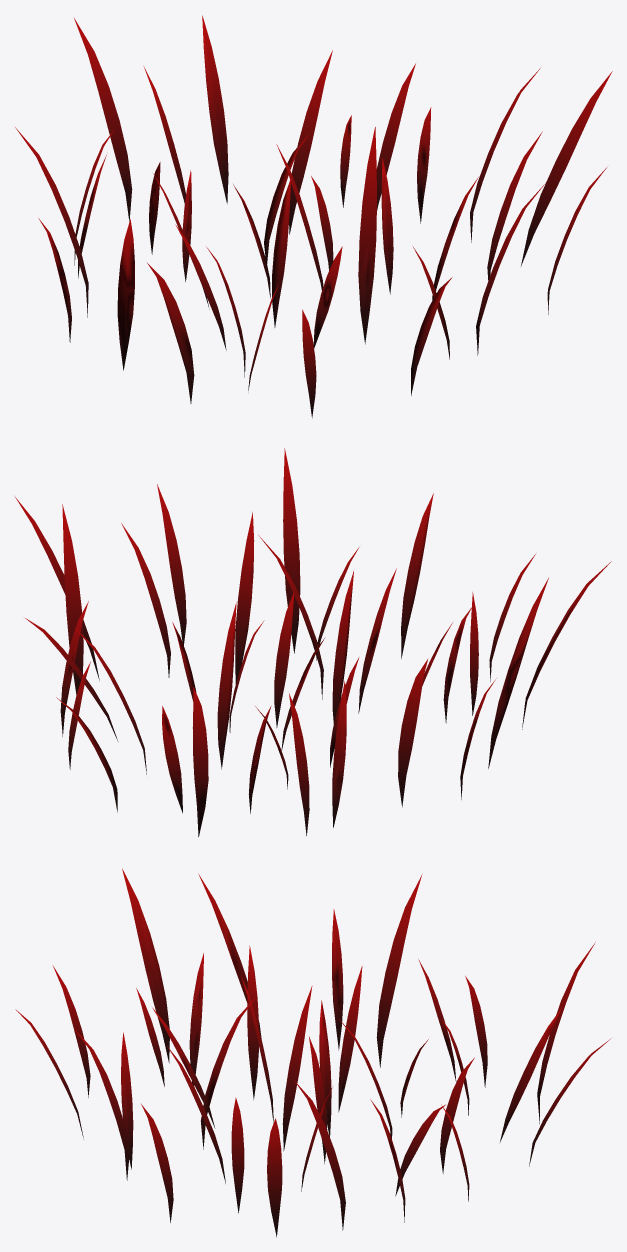
File: gress_2.fbx
The picture shows the model from 3 angles, top to bottom: view 1: azimuth 30°, elevation 25°; view 2: azimuth 150°, elevation 25°; view 3: azimuth 270°, elevation 25°; orthographic projection. The views are drawn at different scales.
Parts seen in each view (by area): view 1: gress; view 2: gress; view 3: gress.
Boxes of the visible parts, <box> form: gress: <box>15,15,612,418</box>; gress: <box>15,448,611,836</box>; gress: <box>15,868,610,1237</box>.
Size of the model in its own units: 3.46 by 1.19 by 3.55.
